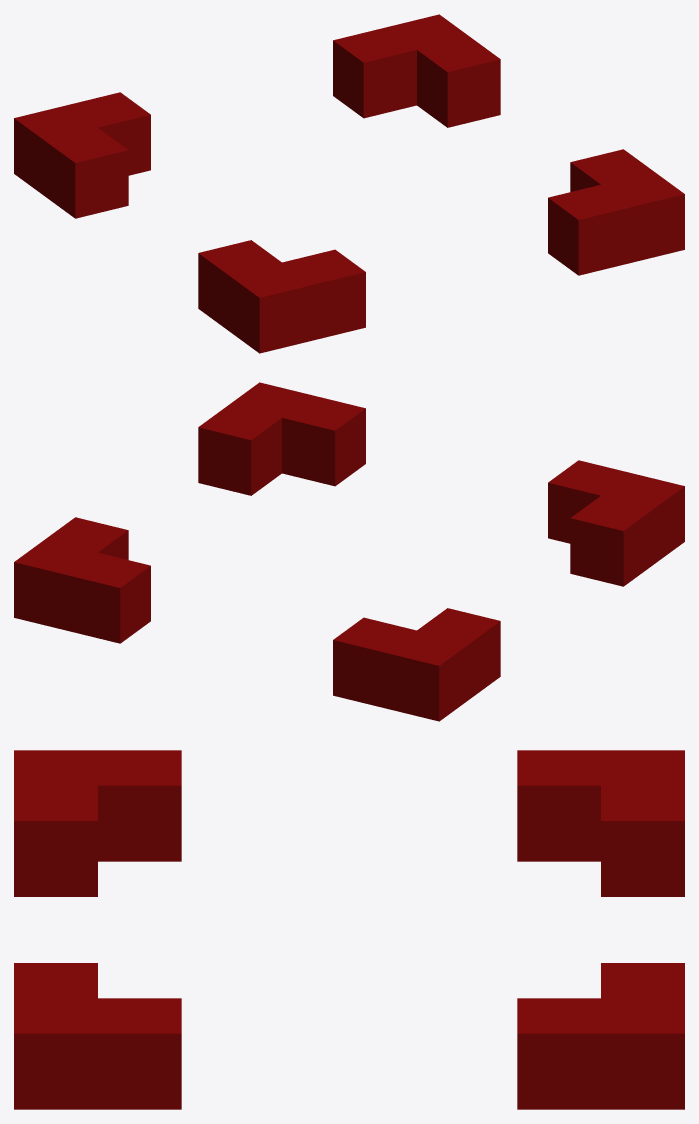
Rendered from TileSelector.obj.
3 views of the same model, one above another, from view 1: azimuth 30°, elevation 25°; view 2: azimuth 150°, elevation 25°; view 3: azimuth 270°, elevation 25° (orthographic). The views are drawn at different scales.
Bounding box in the file's own units: 0.8 × 0.1 × 0.8.
1 material, 1 textured.
